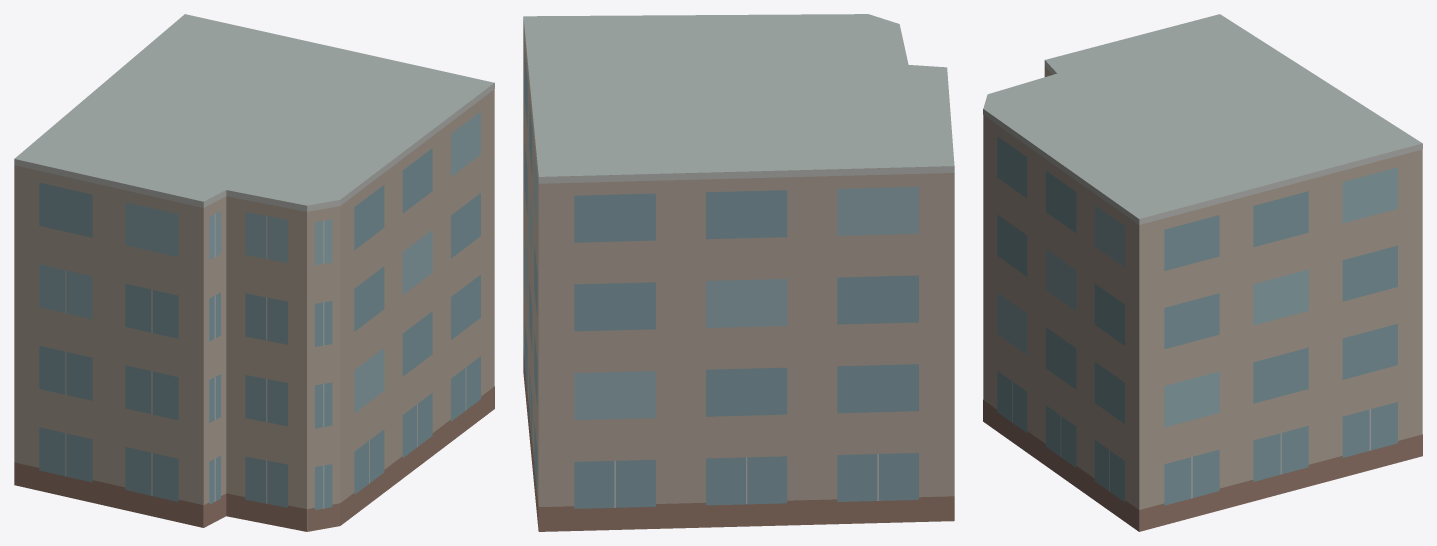
The model's file is survey-upis-32665929.glb.
3 renders of one model, left to right at view 1: azimuth 30°, elevation 25°; view 2: azimuth 150°, elevation 25°; view 3: azimuth 270°, elevation 25°, orthographic. The views are drawn at different scales.
Parts seen in each view (by area): view 1: survey-upis-32665929.tmp; view 2: survey-upis-32665929.tmp; view 3: survey-upis-32665929.tmp.
Part boxes in pixels (bbox=[...]): survey-upis-32665929.tmp: bbox=[14, 14, 494, 531]; survey-upis-32665929.tmp: bbox=[523, 14, 954, 531]; survey-upis-32665929.tmp: bbox=[983, 14, 1422, 531].
Bounding box in the file's own units: 18.01 × 12.8 × 16.31.
